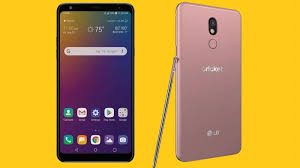lg: (54, 2, 134, 162), (174, 2, 243, 163)
